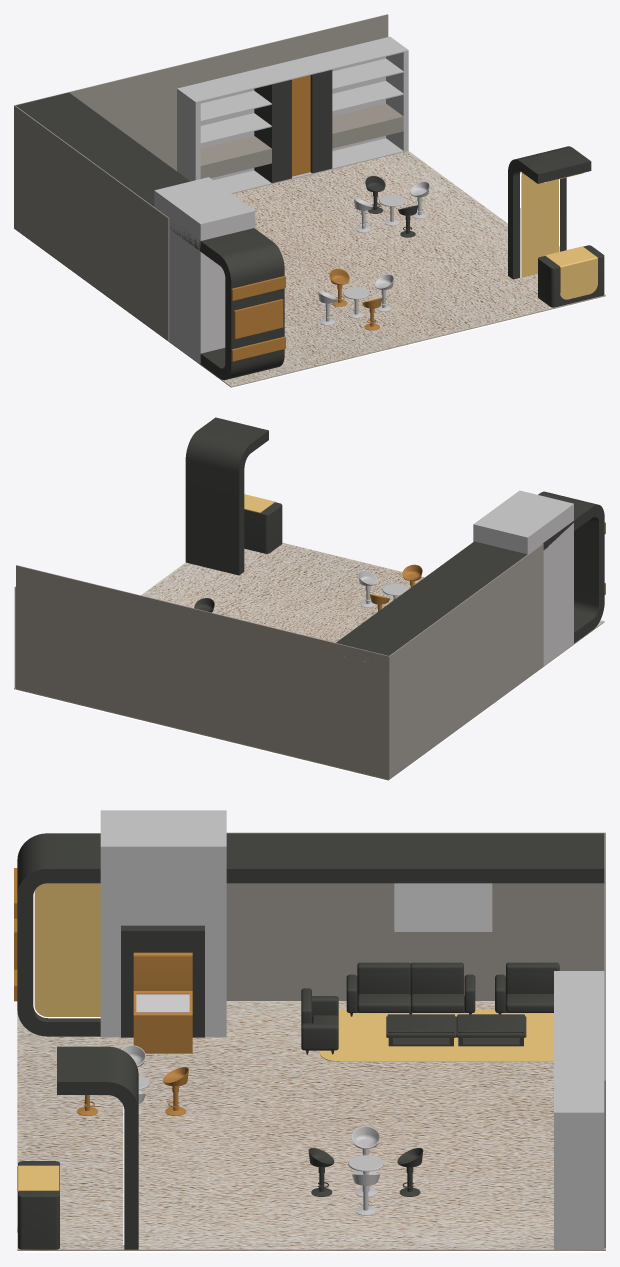
The picture shows the model from 3 angles, top to bottom: view 1: azimuth 30°, elevation 25°; view 2: azimuth 150°, elevation 25°; view 3: azimuth 270°, elevation 25°; orthographic projection. The views are drawn at different scales.
Visible parts, largest first — view 1: Cube.003, Cube.001, Cube.006, Cube.014, Cube.004, Cube.005, Cube.015, Cube.007, Cube.010, Cube.012, Cube.019, Cube.018 (+5 smaller); view 2: Cube.004, Cube.001, Cube.003, Cube.006, Cube.007, Cube.005, Cube.008, Cube.011; view 3: Cube.003, Cube.006, Cube.001, Cube.005, Cube.014, Cube.034, Cube.031, Cube.007, Cube.021, Cube.023, Cube.020, Cube.033 (+13 smaller).
Part boxes in pixels (bbox=[...]): Cube.003: bbox=[168, 151, 605, 387]; Cube.001: bbox=[14, 105, 169, 341]; Cube.006: bbox=[16, 92, 284, 380]; Cube.014: bbox=[177, 36, 408, 193]; Cube.004: bbox=[14, 14, 388, 228]; Cube.005: bbox=[154, 177, 255, 363]; Cube.015: bbox=[254, 70, 332, 183]; Cube.007: bbox=[508, 146, 591, 279]; Cube.010: bbox=[521, 172, 583, 277]; Cube.012: bbox=[231, 276, 285, 361]; Cube.019: bbox=[200, 58, 403, 121]; Cube.018: bbox=[200, 81, 403, 144]; Cube.004: bbox=[16, 565, 389, 779]; Cube.001: bbox=[388, 543, 543, 779]; Cube.003: bbox=[14, 542, 604, 780]; Cube.006: bbox=[336, 491, 604, 662]; Cube.007: bbox=[185, 417, 268, 575]; Cube.005: bbox=[473, 490, 573, 665]; Cube.008: bbox=[244, 502, 282, 553]; Cube.011: bbox=[14, 622, 604, 781]; Cube.003: bbox=[17, 1001, 605, 1250]; Cube.006: bbox=[17, 833, 604, 1036]; Cube.001: bbox=[226, 832, 604, 1000]; Cube.005: bbox=[100, 810, 226, 1037]; Cube.014: bbox=[554, 971, 604, 1249]; Cube.034: bbox=[320, 1009, 553, 1061]; Cube.031: bbox=[346, 962, 475, 1016]; Cube.007: bbox=[57, 1046, 138, 1249]; Cube.021: bbox=[133, 952, 192, 1053]; Cube.023: bbox=[394, 883, 492, 931]; Cube.020: bbox=[121, 925, 204, 1037]; Cube.033: bbox=[386, 1014, 526, 1046].
Bounding box in the file's own units: 7.02 × 2.54 × 7.04.
Materials: 10 (1 with a texture image).
